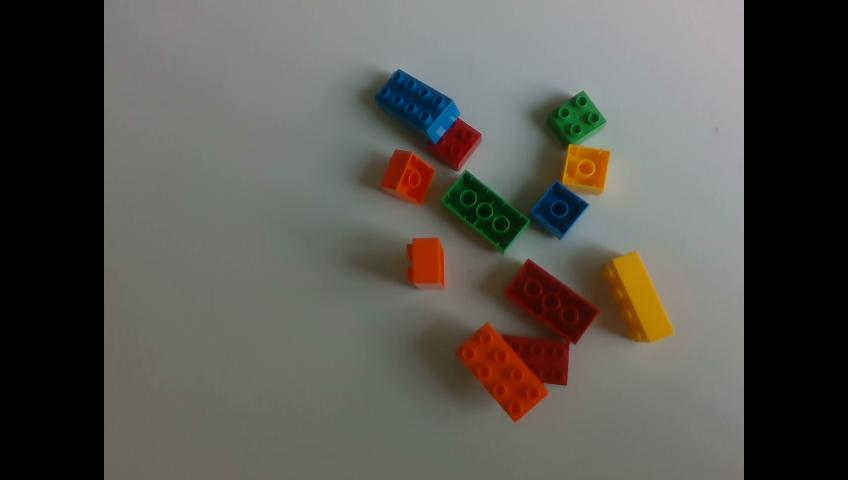2x2_blue: (531, 180, 590, 237)
2x2_green: (551, 90, 607, 144)
2x2_orange: (383, 150, 435, 203), (407, 237, 443, 288)
2x2_red: (430, 117, 480, 170)
2x2_yellow: (560, 144, 611, 195)
4x2_blue: (376, 68, 459, 140)
4x2_green: (441, 170, 530, 251)
4x2_orange: (456, 322, 546, 421)
4x2_red: (504, 258, 599, 341), (503, 334, 570, 384)
4x2_yellow: (604, 249, 675, 341)
